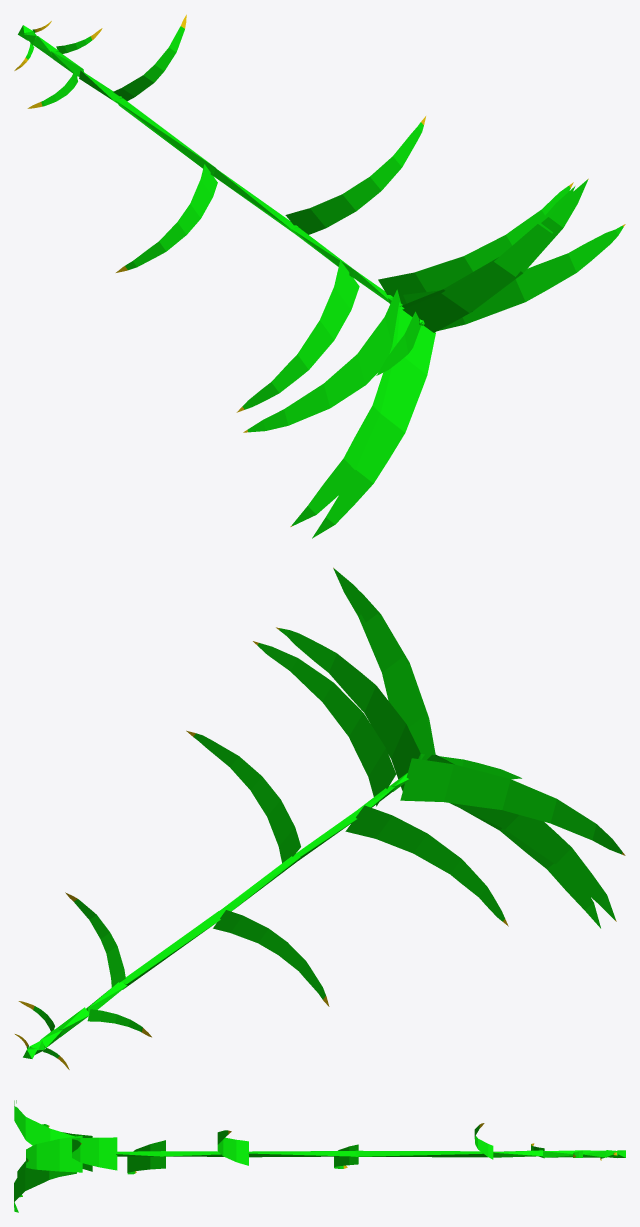
Rendered from usm_14_2.5D_2018-10-08_0.obj.
3 views of the same model, one above another, from view 1: azimuth 30°, elevation 25°; view 2: azimuth 150°, elevation 25°; view 3: azimuth 270°, elevation 25° (orthographic). The views are drawn at different scales.
Parts seen in each view (by area): view 1: vid_30, vid_32, vid_22, vid_24, vid_20, vid_18, vid_16, vid_26, vid_14, vid_28, vid_12, vid_13 (+2 smaller); view 2: vid_22, vid_24, vid_20, vid_28, vid_18, vid_26, vid_16, vid_14, vid_30, vid_12, vid_13, vid_32 (+1 smaller); view 3: vid_24, vid_20, vid_28, vid_13, vid_30, vid_18, vid_16, vid_15, vid_17, vid_14, vid_11, vid_12 (+3 smaller).
Part boxes in pixels (x1,y1,x2,y2): vid_30: (312, 306, 435, 538); vid_32: (402, 186, 575, 332); vid_22: (247, 289, 401, 432); vid_24: (403, 225, 623, 330); vid_20: (378, 186, 570, 304); vid_18: (242, 260, 359, 409); vid_16: (285, 122, 423, 234); vid_26: (292, 302, 402, 525); vid_14: (125, 164, 217, 270); vid_28: (400, 179, 587, 312); vid_12: (113, 26, 184, 101); vid_13: (115, 98, 215, 175); vid_22: (400, 758, 622, 854); vid_24: (279, 628, 420, 790); vid_20: (257, 643, 396, 806); vid_28: (333, 568, 434, 760); vid_18: (345, 805, 504, 921); vid_26: (427, 754, 615, 919); vid_16: (193, 733, 300, 863); vid_14: (213, 910, 325, 999); vid_30: (434, 754, 600, 928); vid_12: (74, 899, 125, 987); vid_13: (121, 911, 221, 989); vid_32: (343, 577, 435, 755); vid_24: (26, 1135, 82, 1172); vid_20: (72, 1137, 117, 1170); vid_28: (14, 1100, 74, 1145); vid_13: (355, 1150, 487, 1157); vid_30: (14, 1135, 73, 1212); vid_18: (127, 1140, 165, 1174); vid_16: (217, 1130, 248, 1165); vid_15: (248, 1151, 355, 1157); vid_17: (161, 1151, 223, 1156); vid_14: (334, 1144, 358, 1168); vid_11: (493, 1150, 542, 1157); vid_12: (474, 1125, 493, 1159).
Size of the model in its own units: 133 by 102 by 273.
